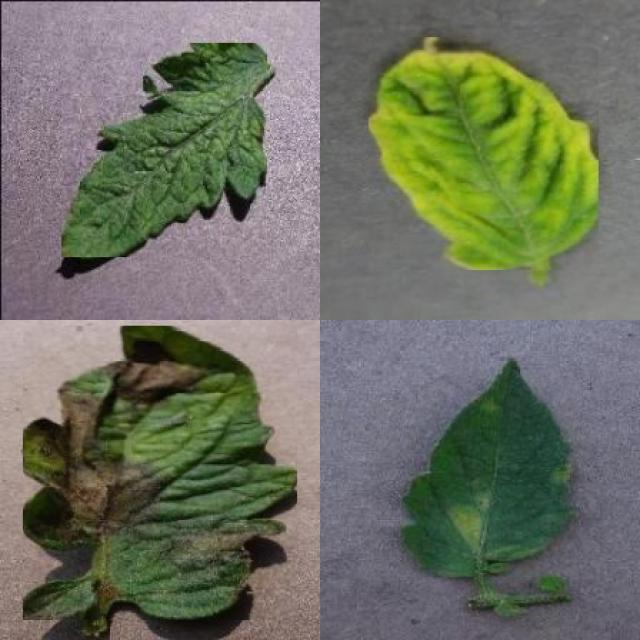Late Blight: (22, 326, 298, 621)
Leaf Mold: (402, 354, 579, 577)
Mosaic Virus: (62, 42, 268, 258)
Yellow Leaf Curl Virus: (368, 37, 598, 270)
